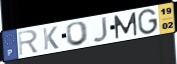G: (138, 8, 159, 36)
J: (92, 15, 109, 43)
K: (41, 26, 60, 52)
M: (113, 11, 139, 40)
O: (66, 20, 91, 47)
R: (16, 29, 40, 57)
